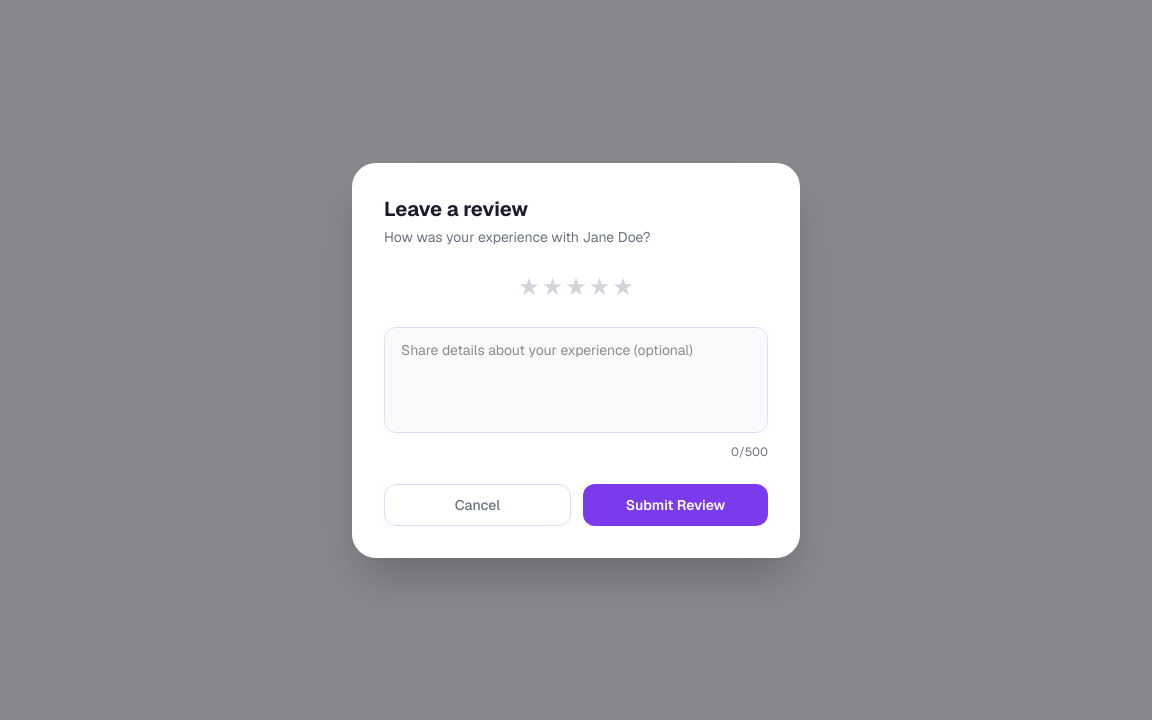
it: ReviewModal › shows error when submitting without a rating
Click the button "Submit Review".
click(676, 504)  # box top-left (583, 484), bottom-right (768, 526)
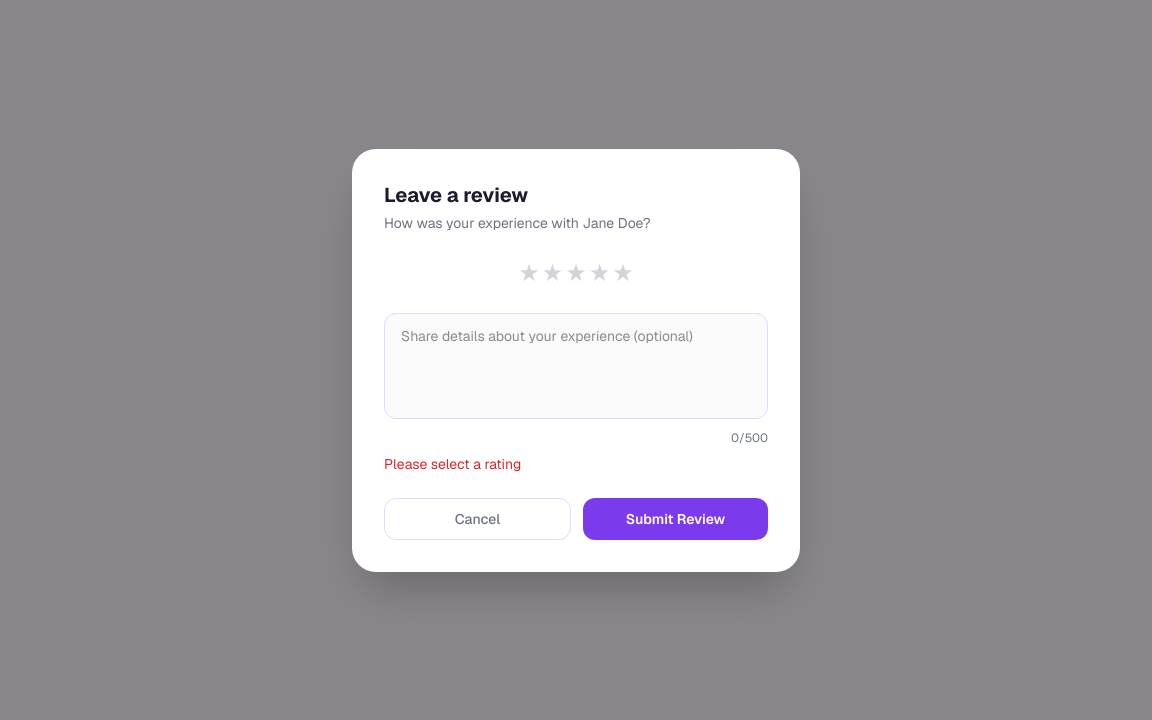
expect the text "Please select a rating" is shown: met, box top-left (384, 454), bottom-right (521, 472)
